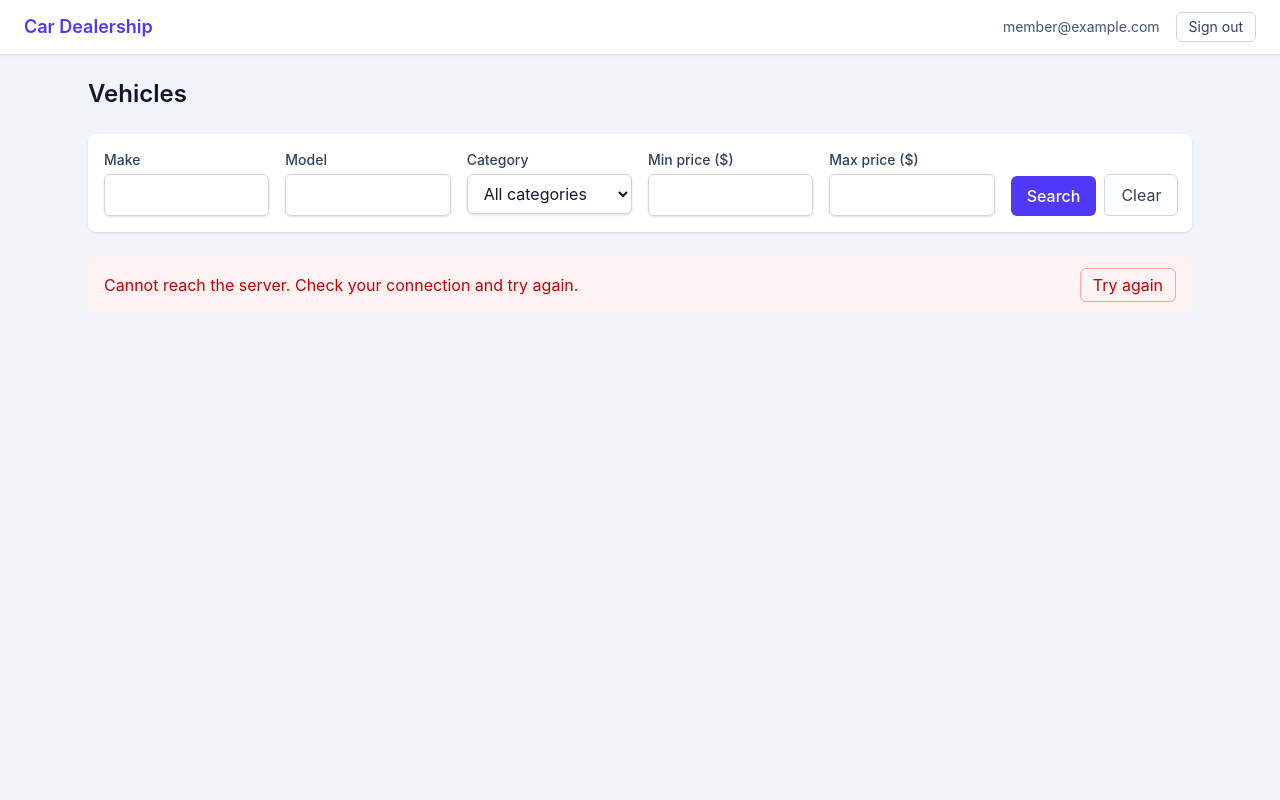
it: DashboardPage listing › shows the error and a retry button when loading fails
This screenshot has width=1280, height=800.
Check: the message shows "Cannot reach the server", box [104, 275, 578, 295]
Click the button "Try again": (1128, 285) [1080, 268, 1176, 302]
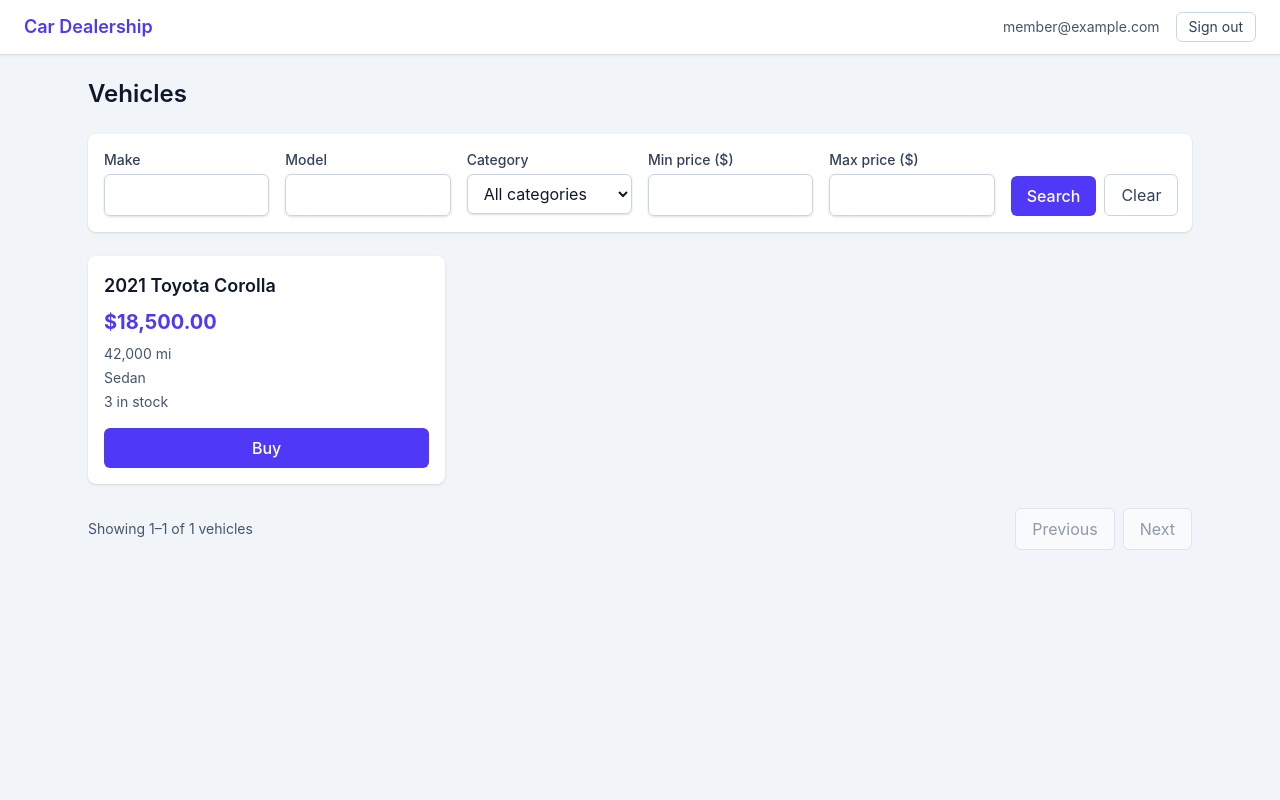
Check: the element "2021 Toyota Corolla" is shown, box [88, 256, 445, 484]
Check: the message "Cannot reach the server. Check your connection and try again. Try again" is gone
